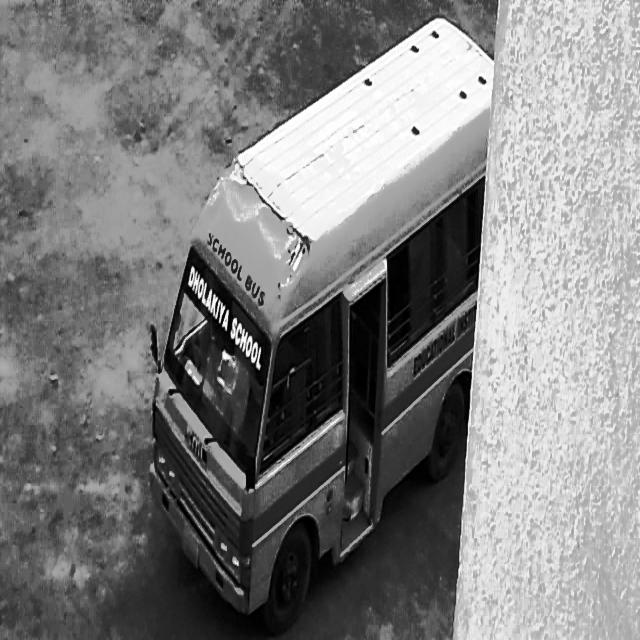Bus: (150, 24, 511, 631)
